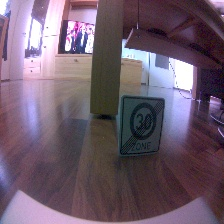dreisiger_zone_ende: (119, 95, 165, 157)
